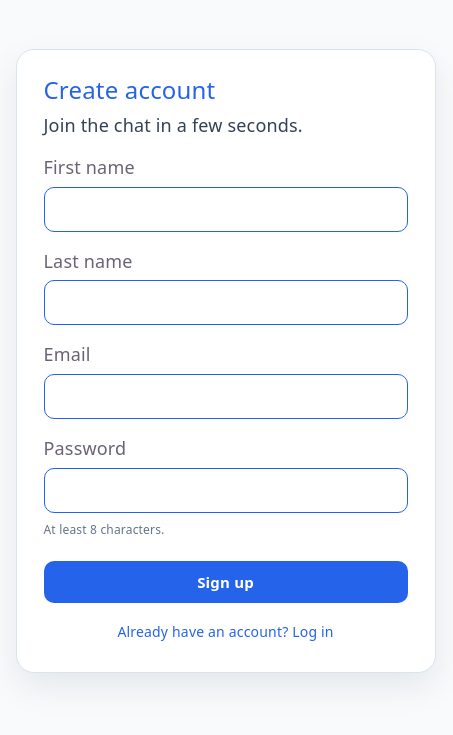
Test: SignupScreen › shows an email-exists message on a 409
The width and height of the screenshot is (453, 735).
Type "New" into the field labelled "First name".
click(226, 209); type("New")  # box [44, 187, 408, 232]
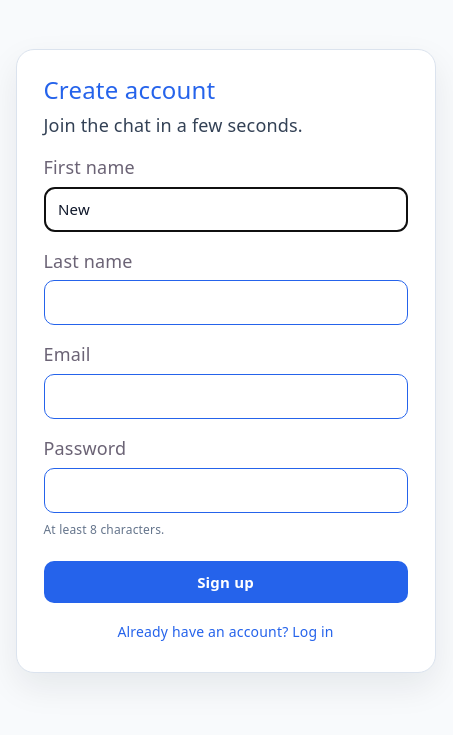
Type "User" into the field labelled "Last name".
click(226, 303); type("User")  # box [44, 280, 408, 325]
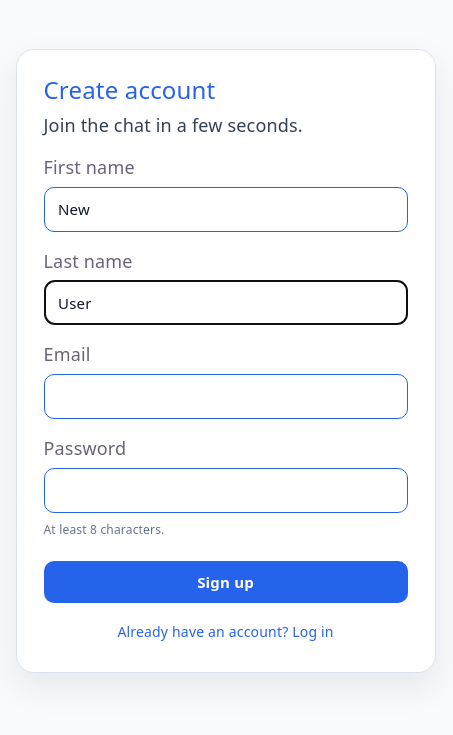
Type "new@example.com" into the field labelled "Email".
click(226, 396); type("new@example.com")  # box [44, 374, 408, 419]
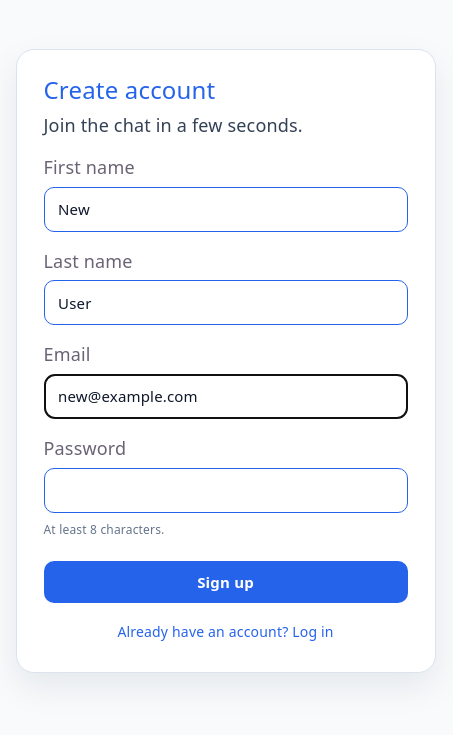
Type "password123" into the password field labelled "Password".
click(226, 490); type("password123")  # box [44, 468, 408, 513]
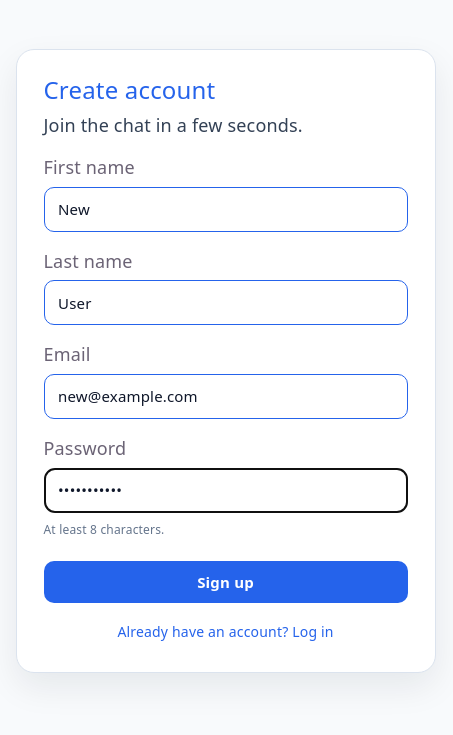
Click the button "Sign up".
click(226, 582)  # box [44, 561, 408, 603]
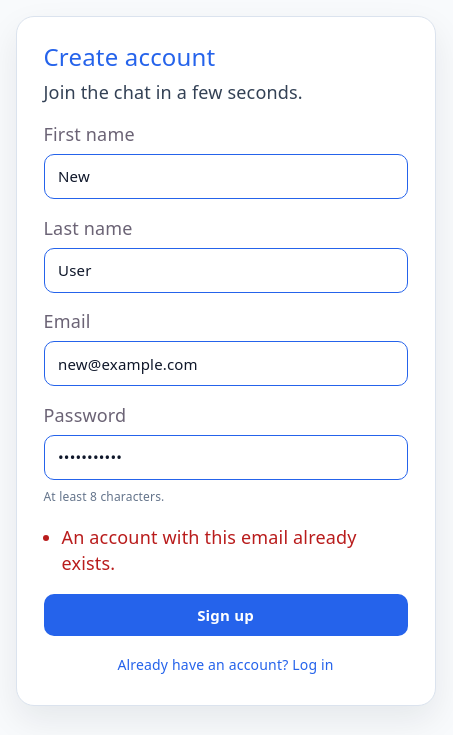
Expected: the message reads "An account with this email already exists.", [62, 525, 357, 575]
